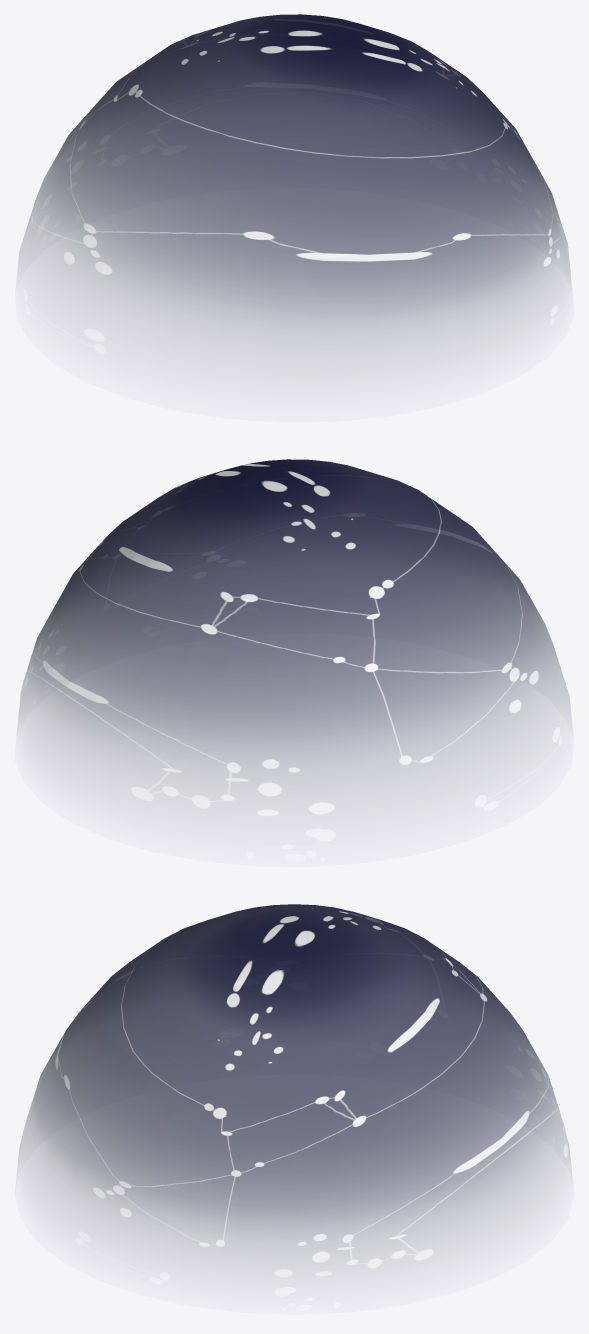
Rendered from 28-black.glb.
3 views of the same model, one above another, from view 1: azimuth 30°, elevation 25°; view 2: azimuth 150°, elevation 25°; view 3: azimuth 270°, elevation 25° (orthographic).
Visible parts, largest first — view 1: black; view 2: black; view 3: black.
Part boxes in pixels (x1,y1,x2,y2): black: (19, 14, 570, 345); black: (19, 459, 569, 785); black: (18, 904, 570, 1255).
Size of the model in its own units: 5.6 by 3 by 5.6.
Materials: 1 (1 with a texture image).
